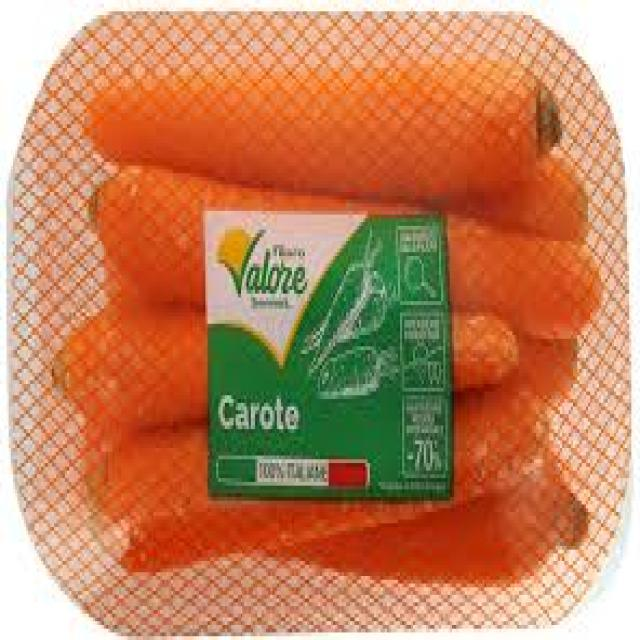Carrot: (89, 70, 559, 196)
